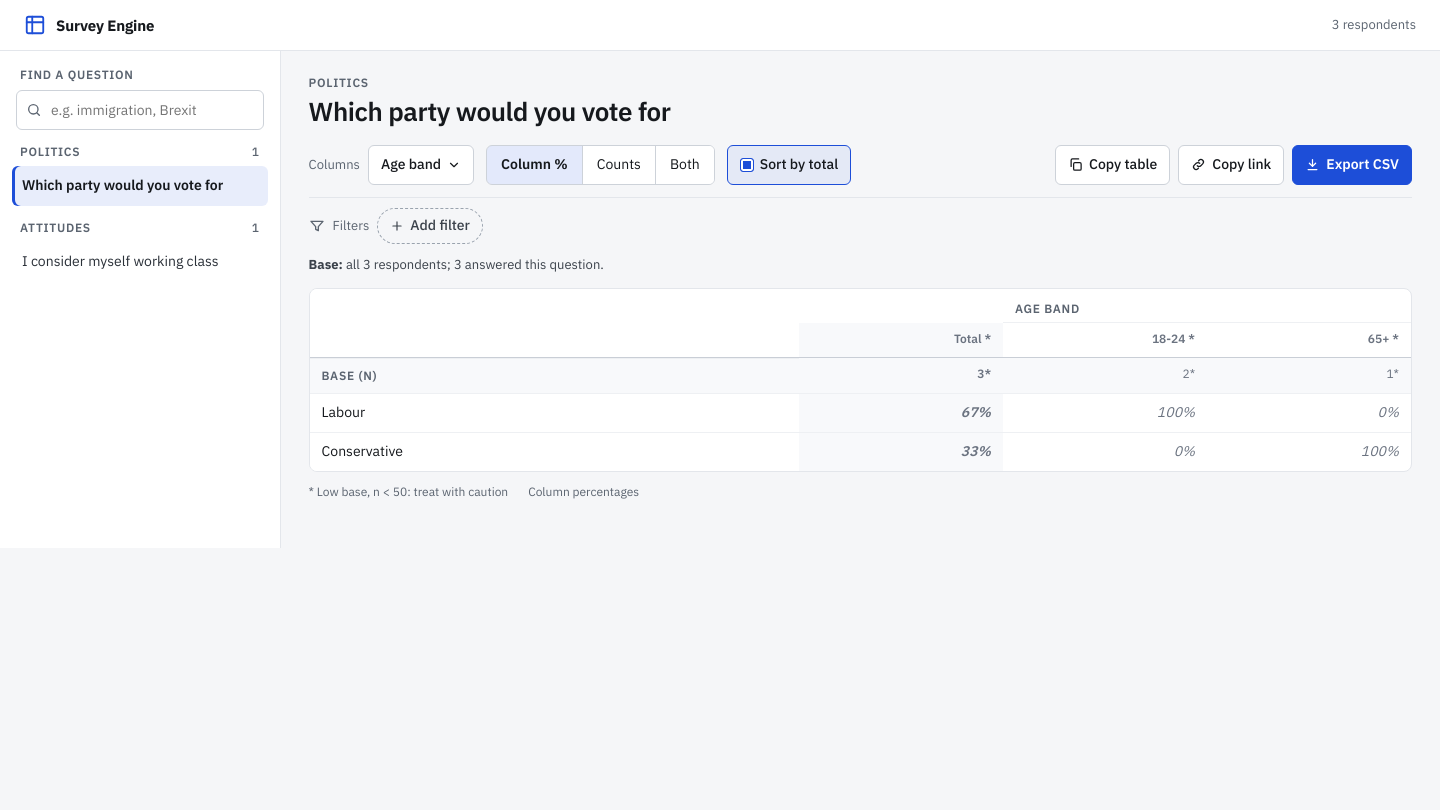
Test case: picking a question and a filter refetches with the filter
The image size is (1440, 810).
Expected: the table is shown, top-left (310, 289), bottom-right (1411, 471)
Click the button "I consider myself working class": (140, 261) top-left (12, 241), bottom-right (268, 281)
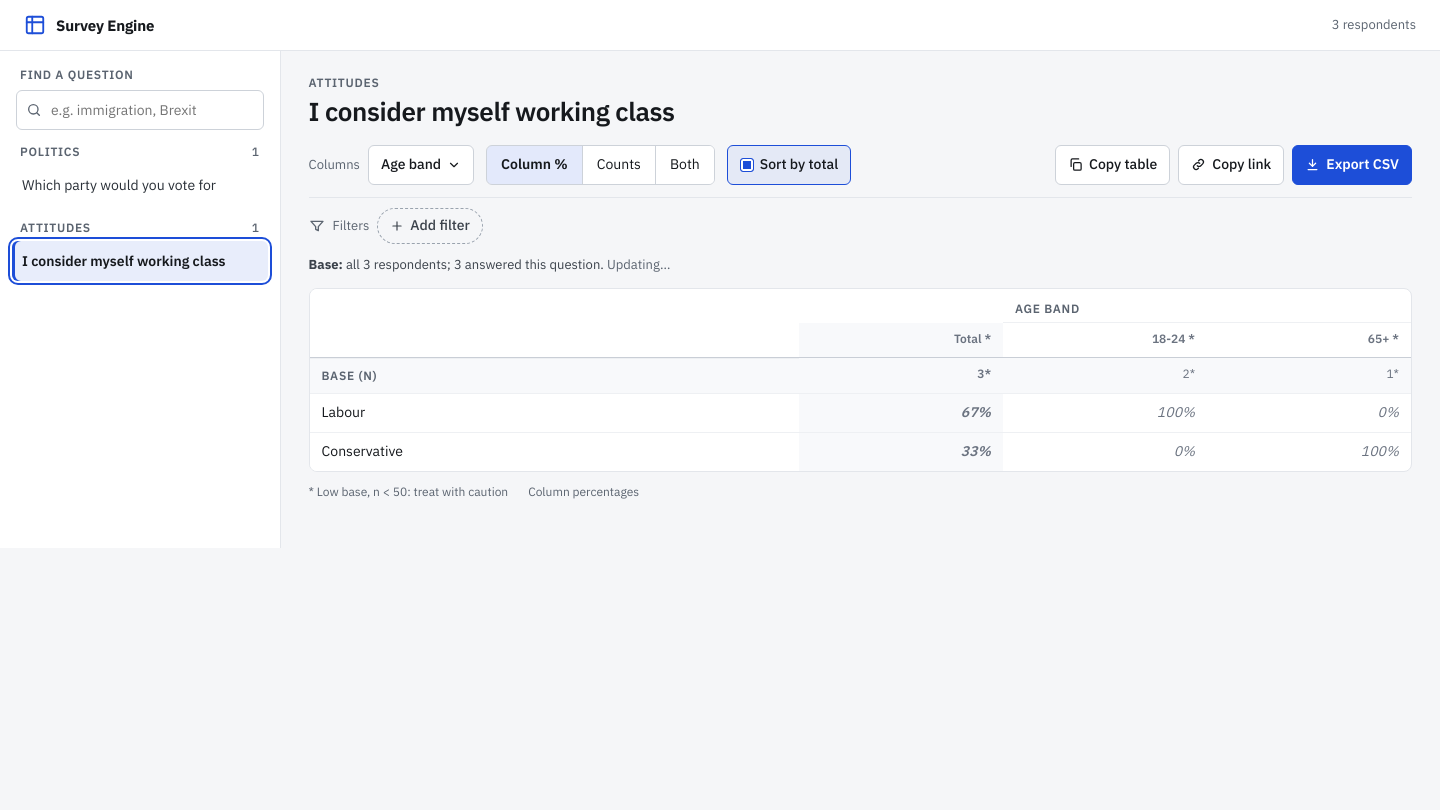
Click the button "Add filter": (430, 226) top-left (377, 208), bottom-right (483, 244)
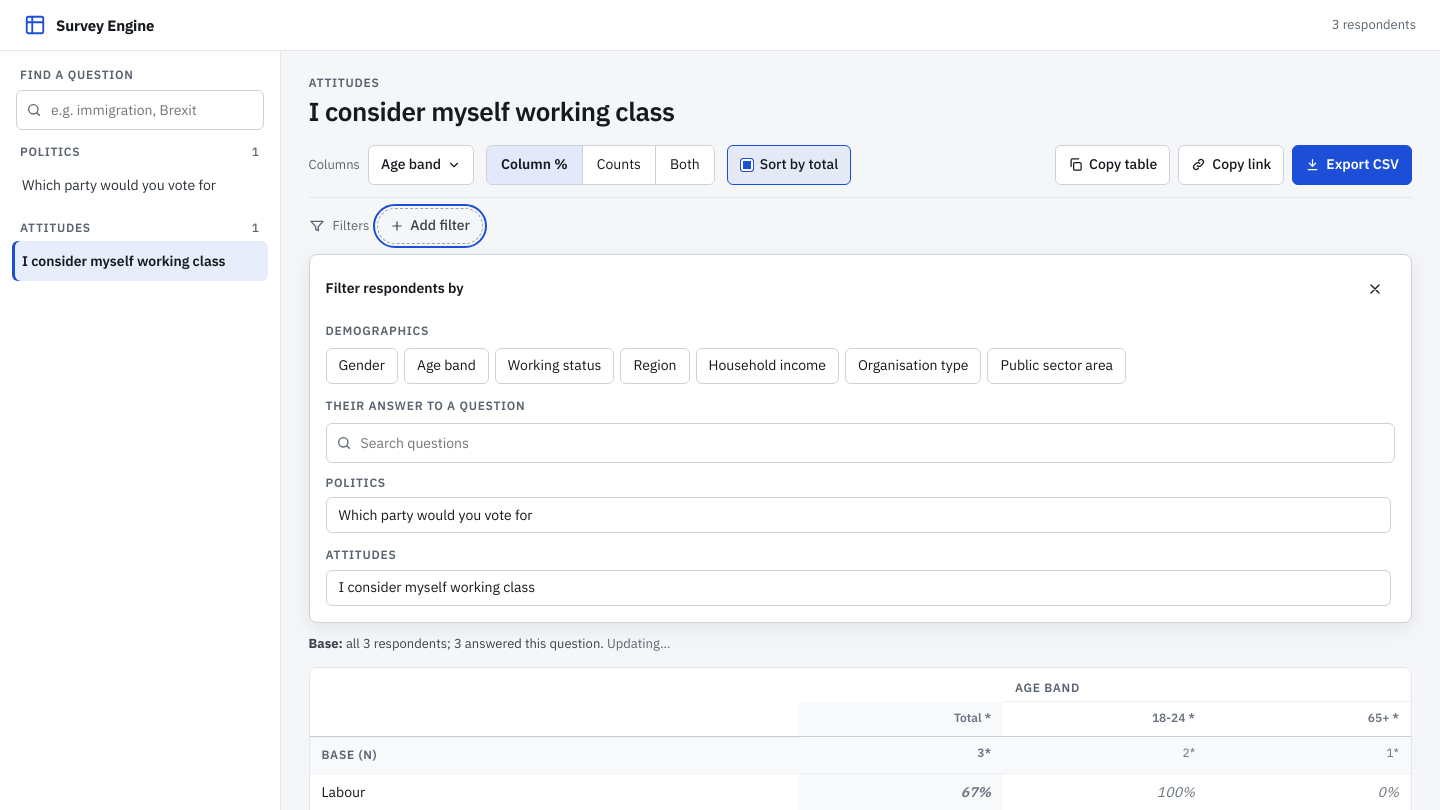
Click the button "Gender": (362, 366) top-left (326, 348), bottom-right (398, 384)
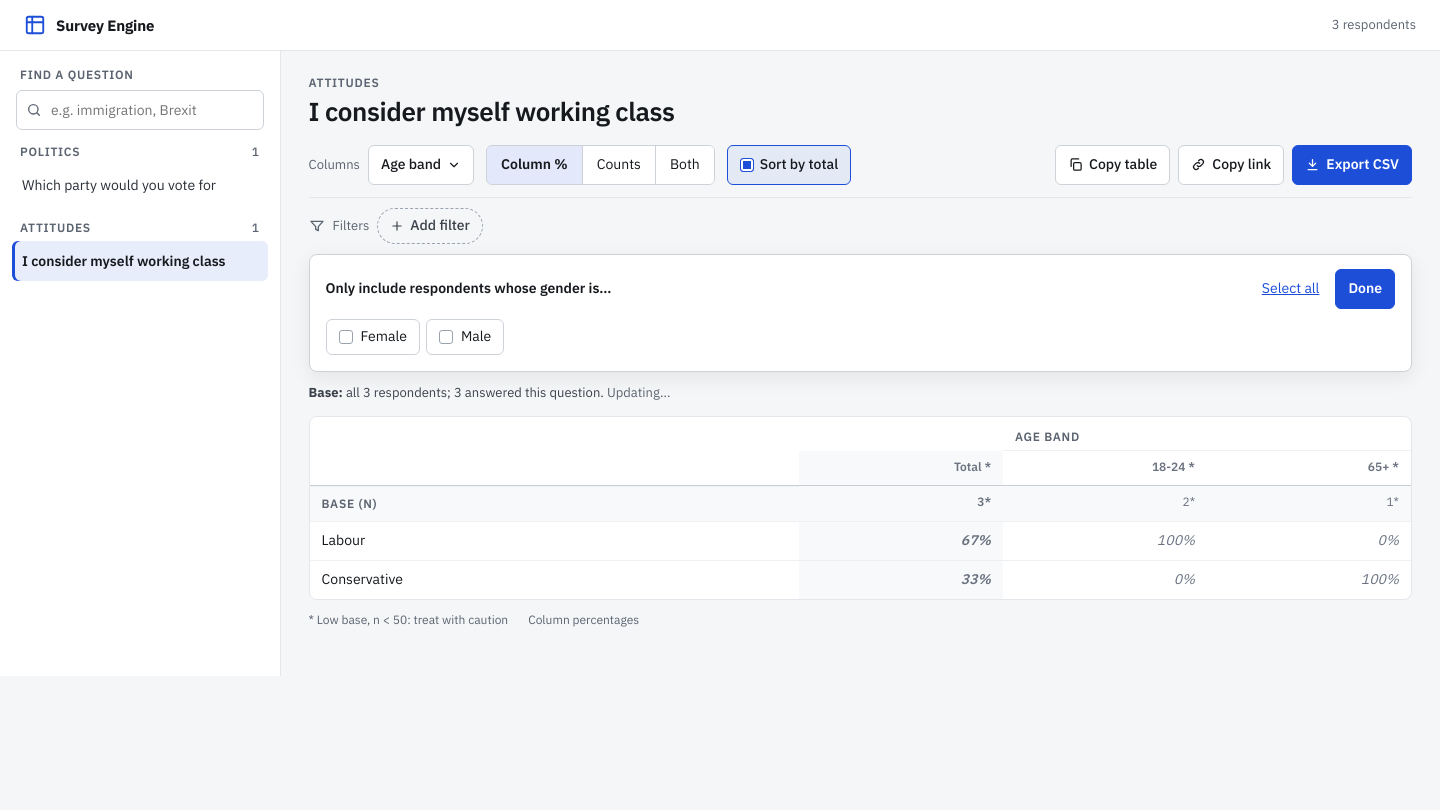
Click the button "Female": (373, 337) top-left (326, 319), bottom-right (420, 355)
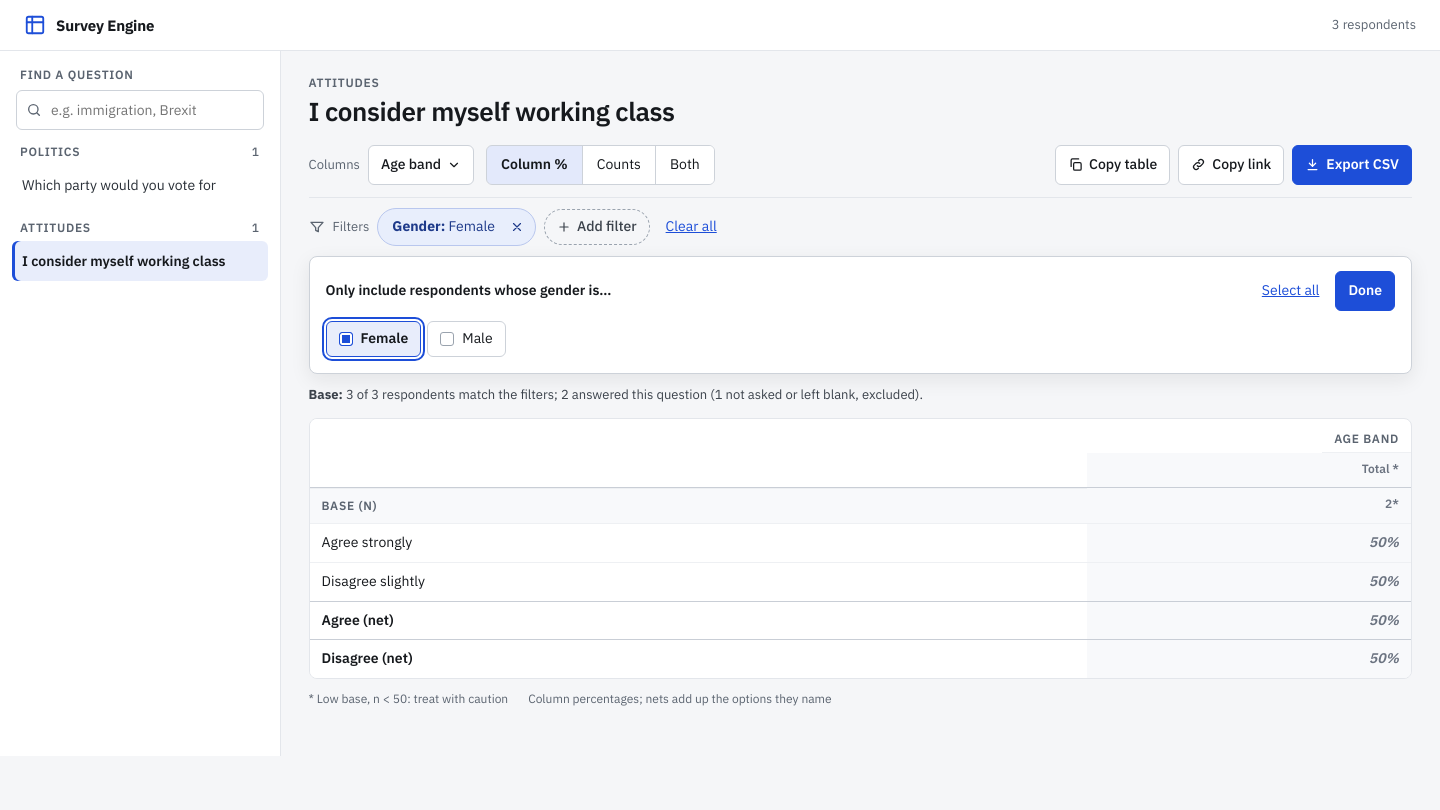
Expected: the button named "Remove Gender filter" is shown, top-left (499, 209), bottom-right (535, 245)
